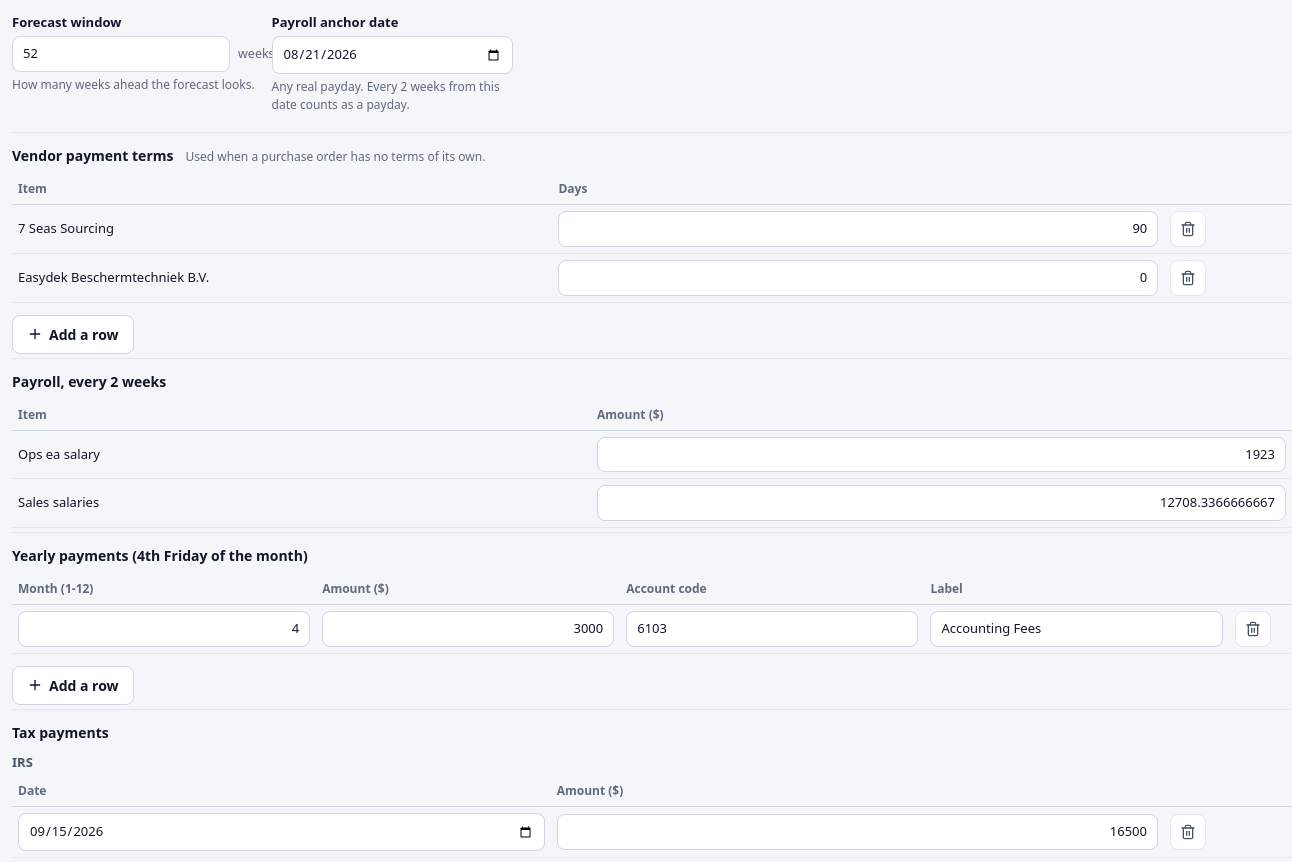
ConfigForm › blocks saving while a value is not a number, and Revert restores the saved value
Step 1. Replace the text in the field labelled "Forecast window" with "abc" → [121, 54], box [12,36,230,72]
(page scrolled)
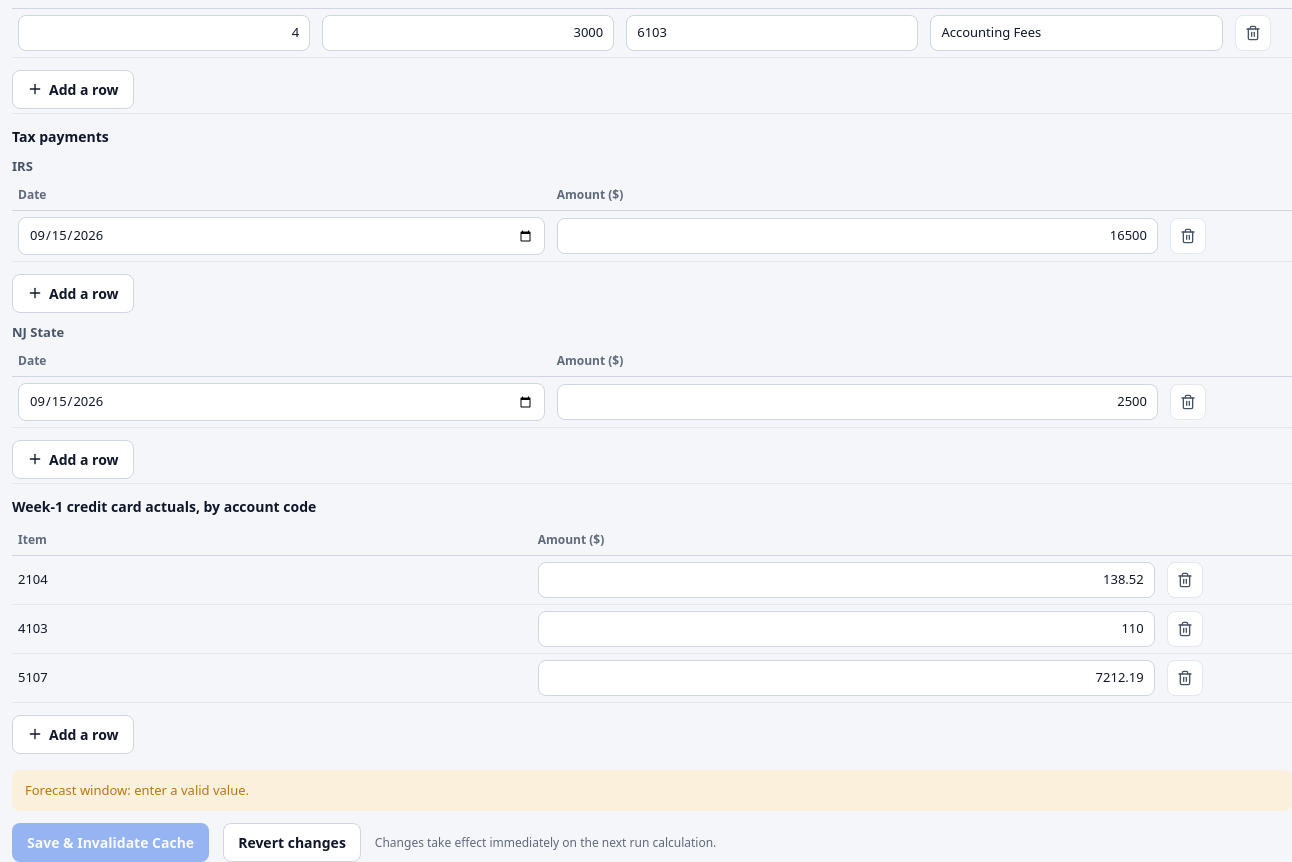
Check: the text "Forecast window: enter a valid value." is shown, box [25,781,249,799]
Check: the button "Save & Invalidate Cache" is disabled, box [12,823,209,861]
Step 2. Click the button "Revert changes" → [292, 843], box [223,823,361,861]
(page scrolled)
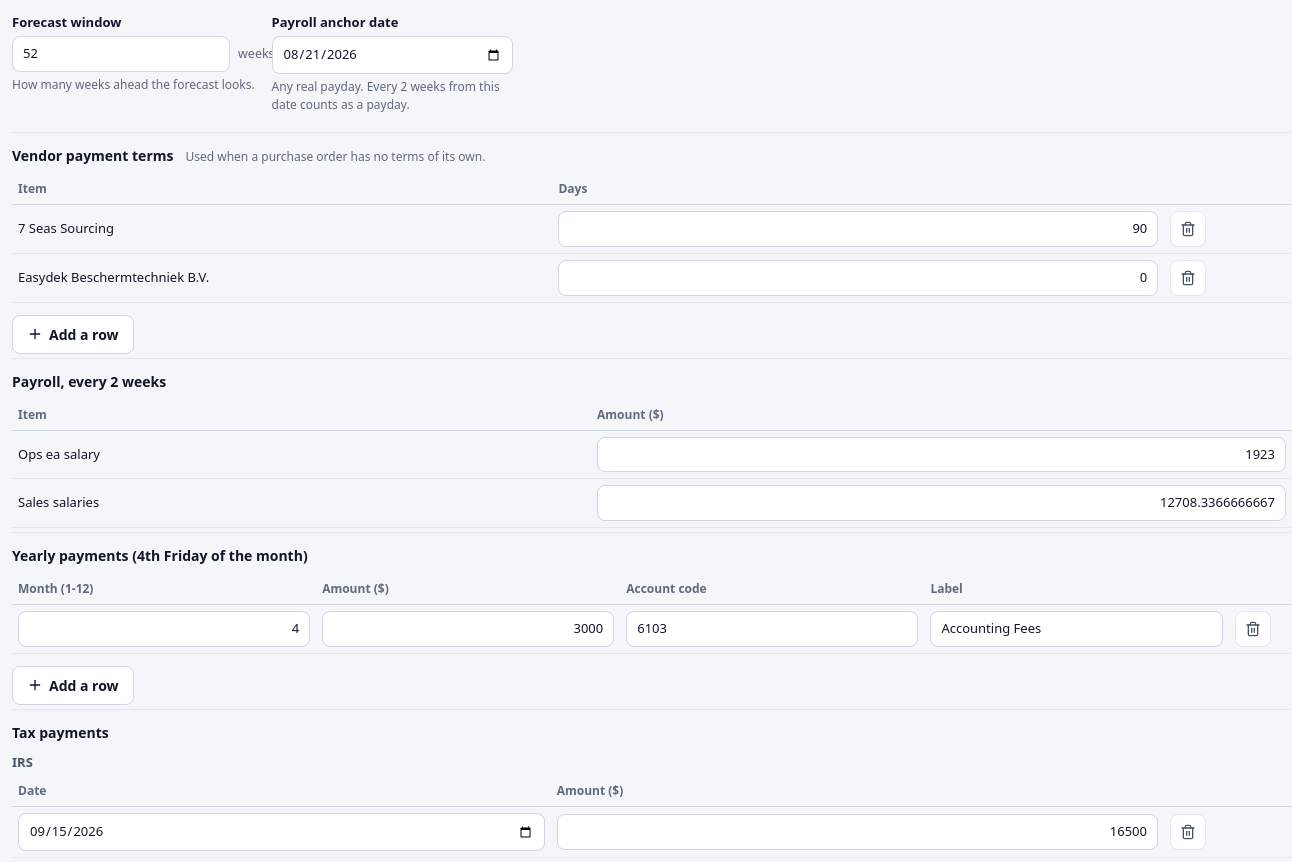
Check: the field labelled "Forecast window" holds "52", box [12,36,230,72]
